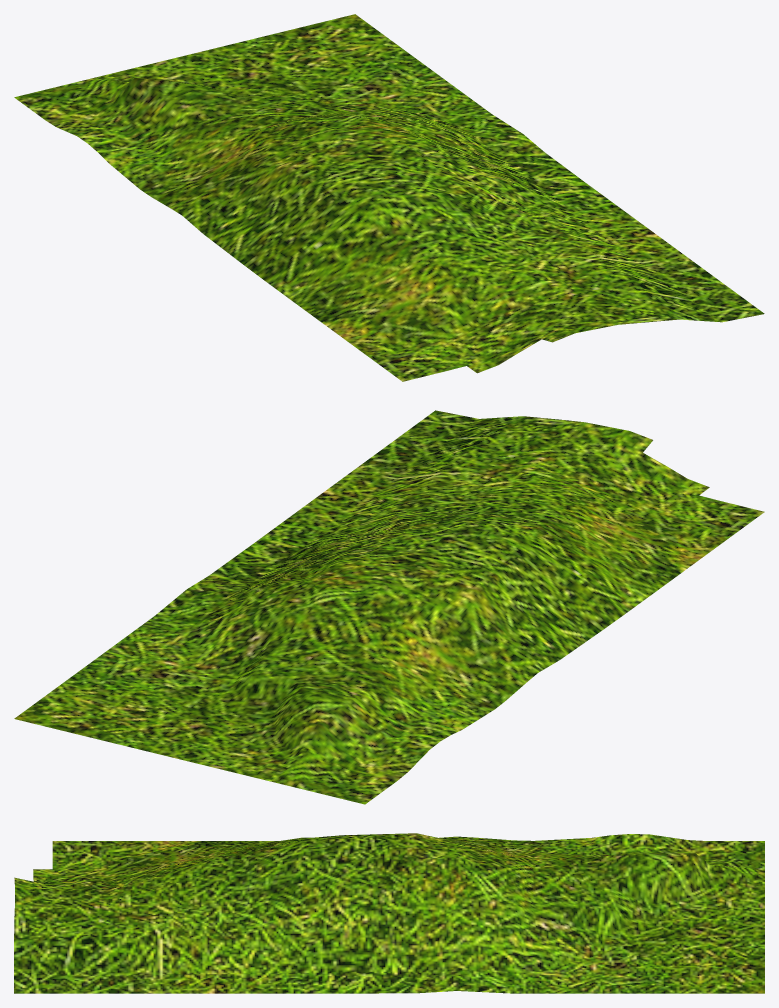
Rendered from GGrass 1.fbx.
3 views of the same model, one above another, from view 1: azimuth 30°, elevation 25°; view 2: azimuth 150°, elevation 25°; view 3: azimuth 270°, elevation 25° (orthographic). The views are drawn at different scales.
Visible parts, largest first — view 1: FinalGrass001; view 2: FinalGrass001; view 3: FinalGrass001.
Part boxes in pixels (bbox=[...]): FinalGrass001: bbox=[14, 14, 764, 381]; FinalGrass001: bbox=[14, 410, 764, 804]; FinalGrass001: bbox=[14, 833, 764, 993].
Size of the model in its own units: 1521 by 229 by 3162.
